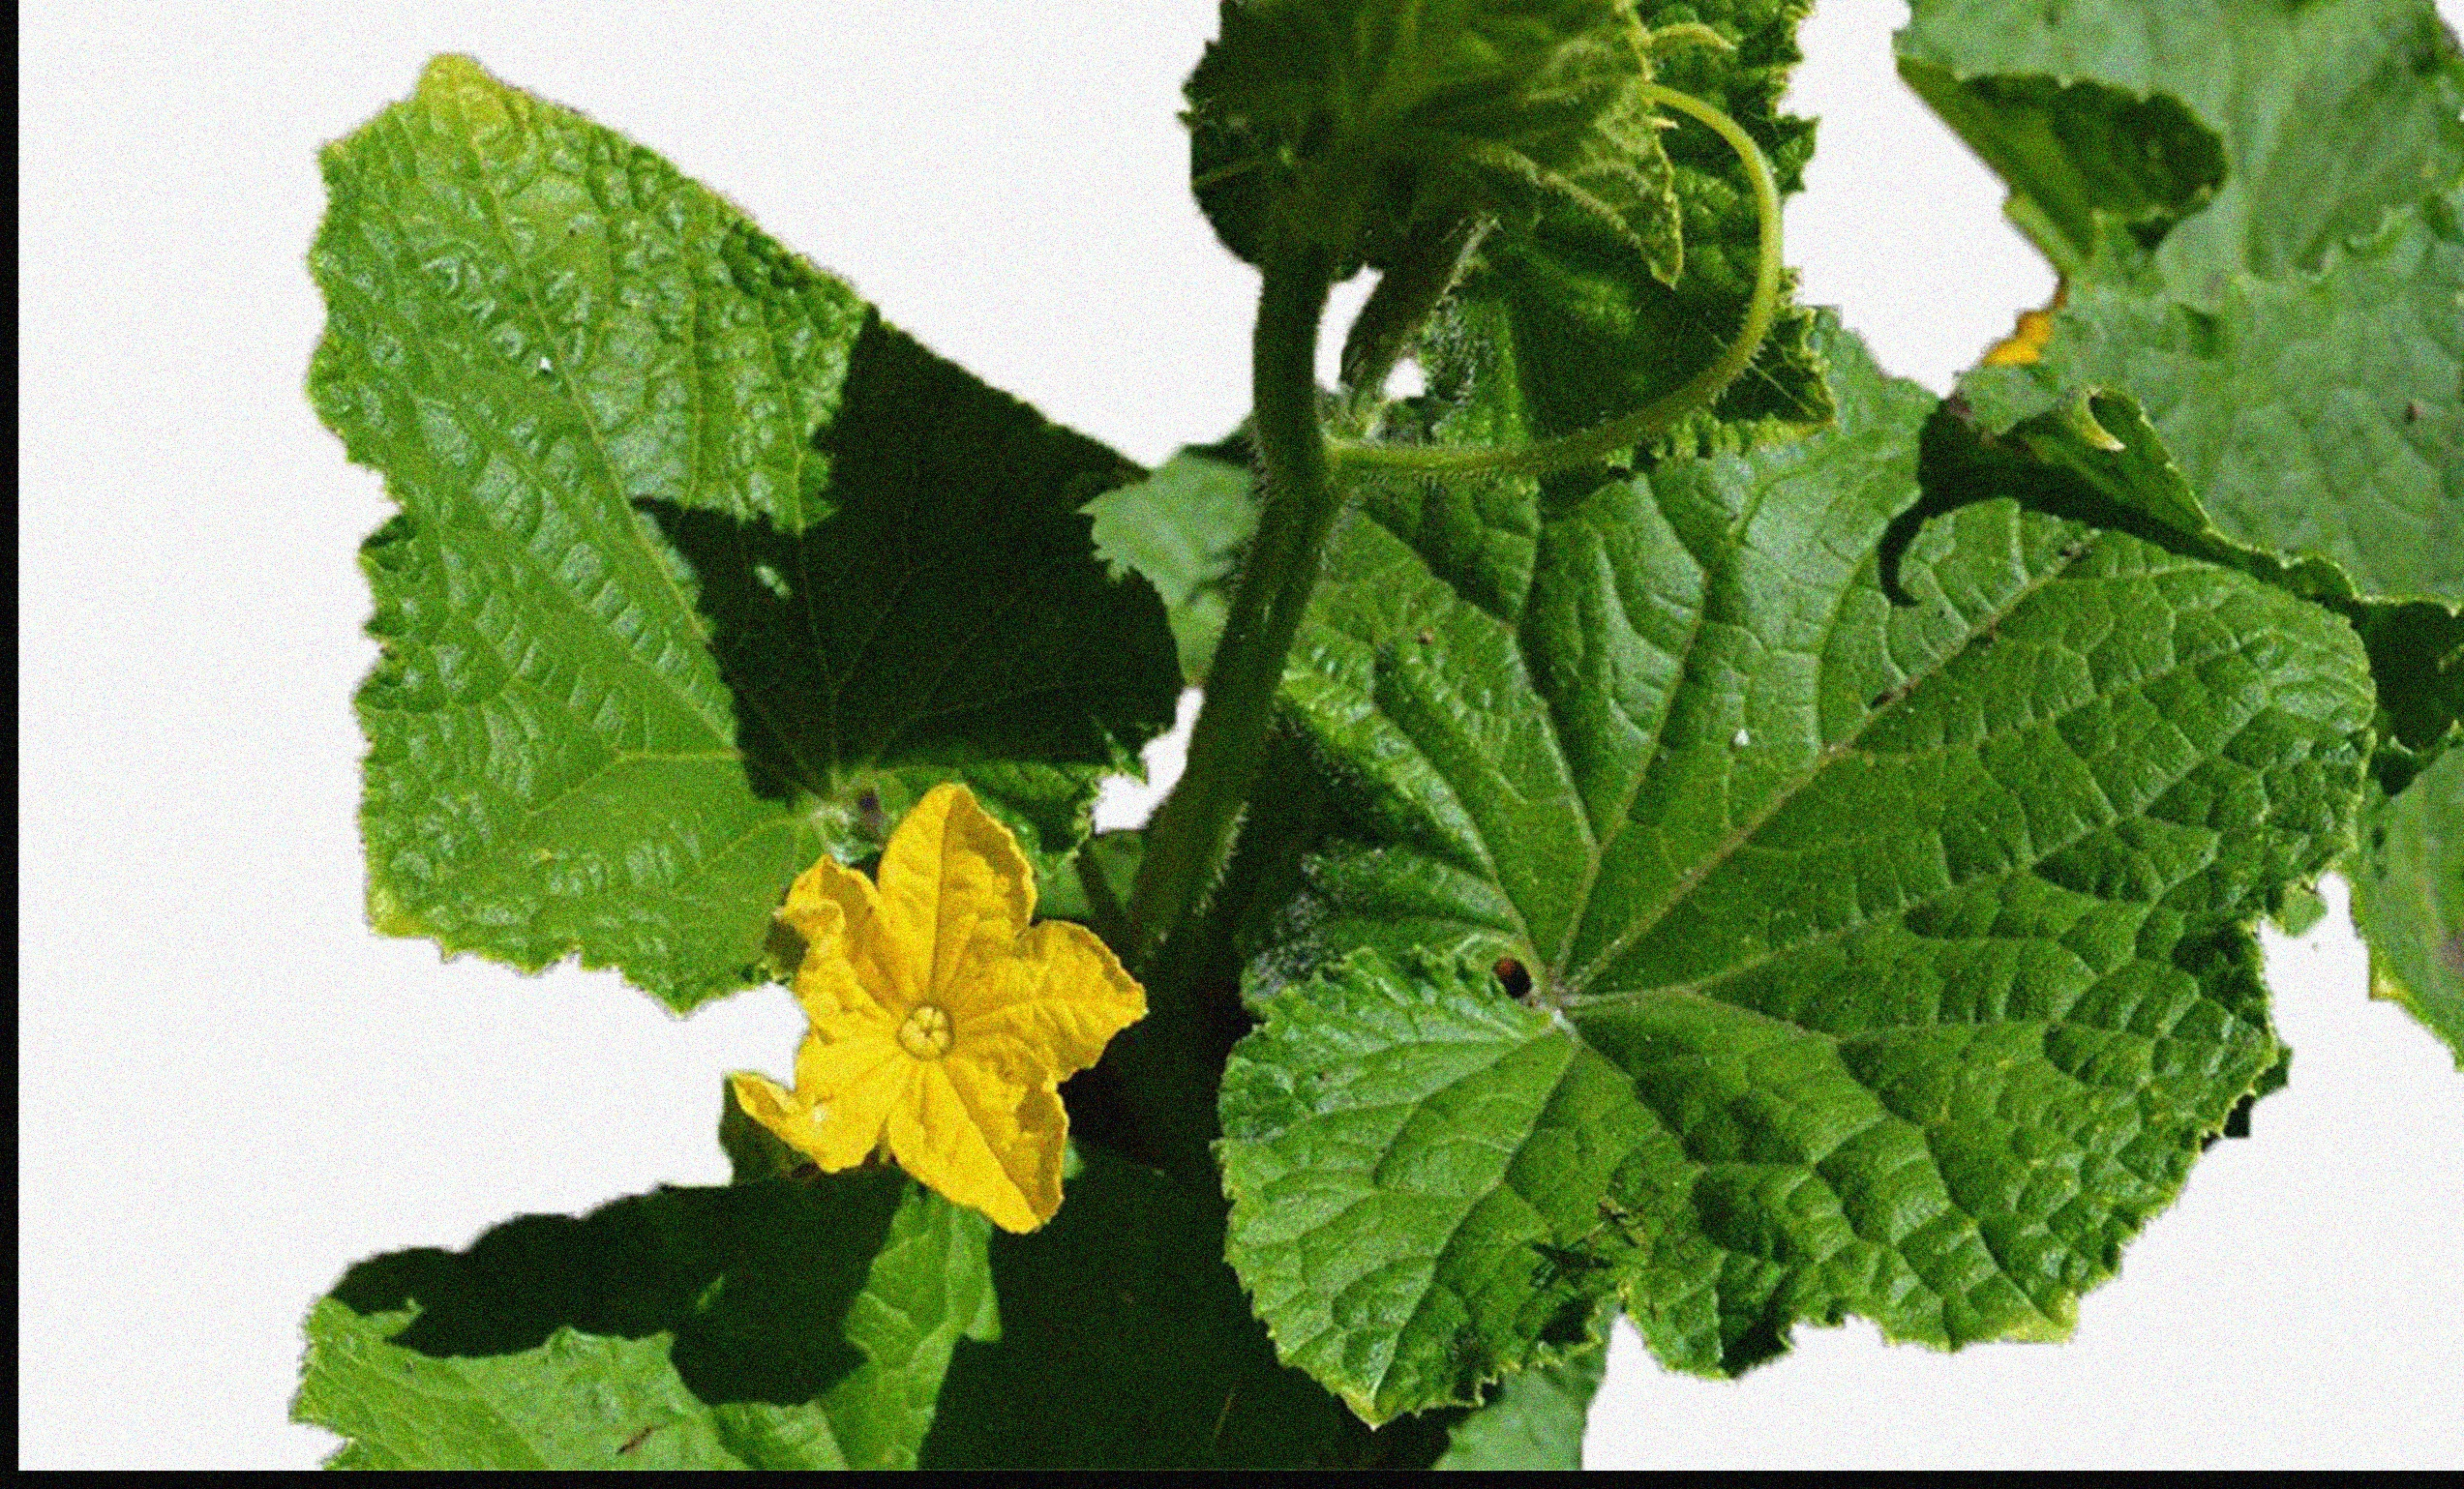cucumber_plant: (297, 46, 2399, 1471)
